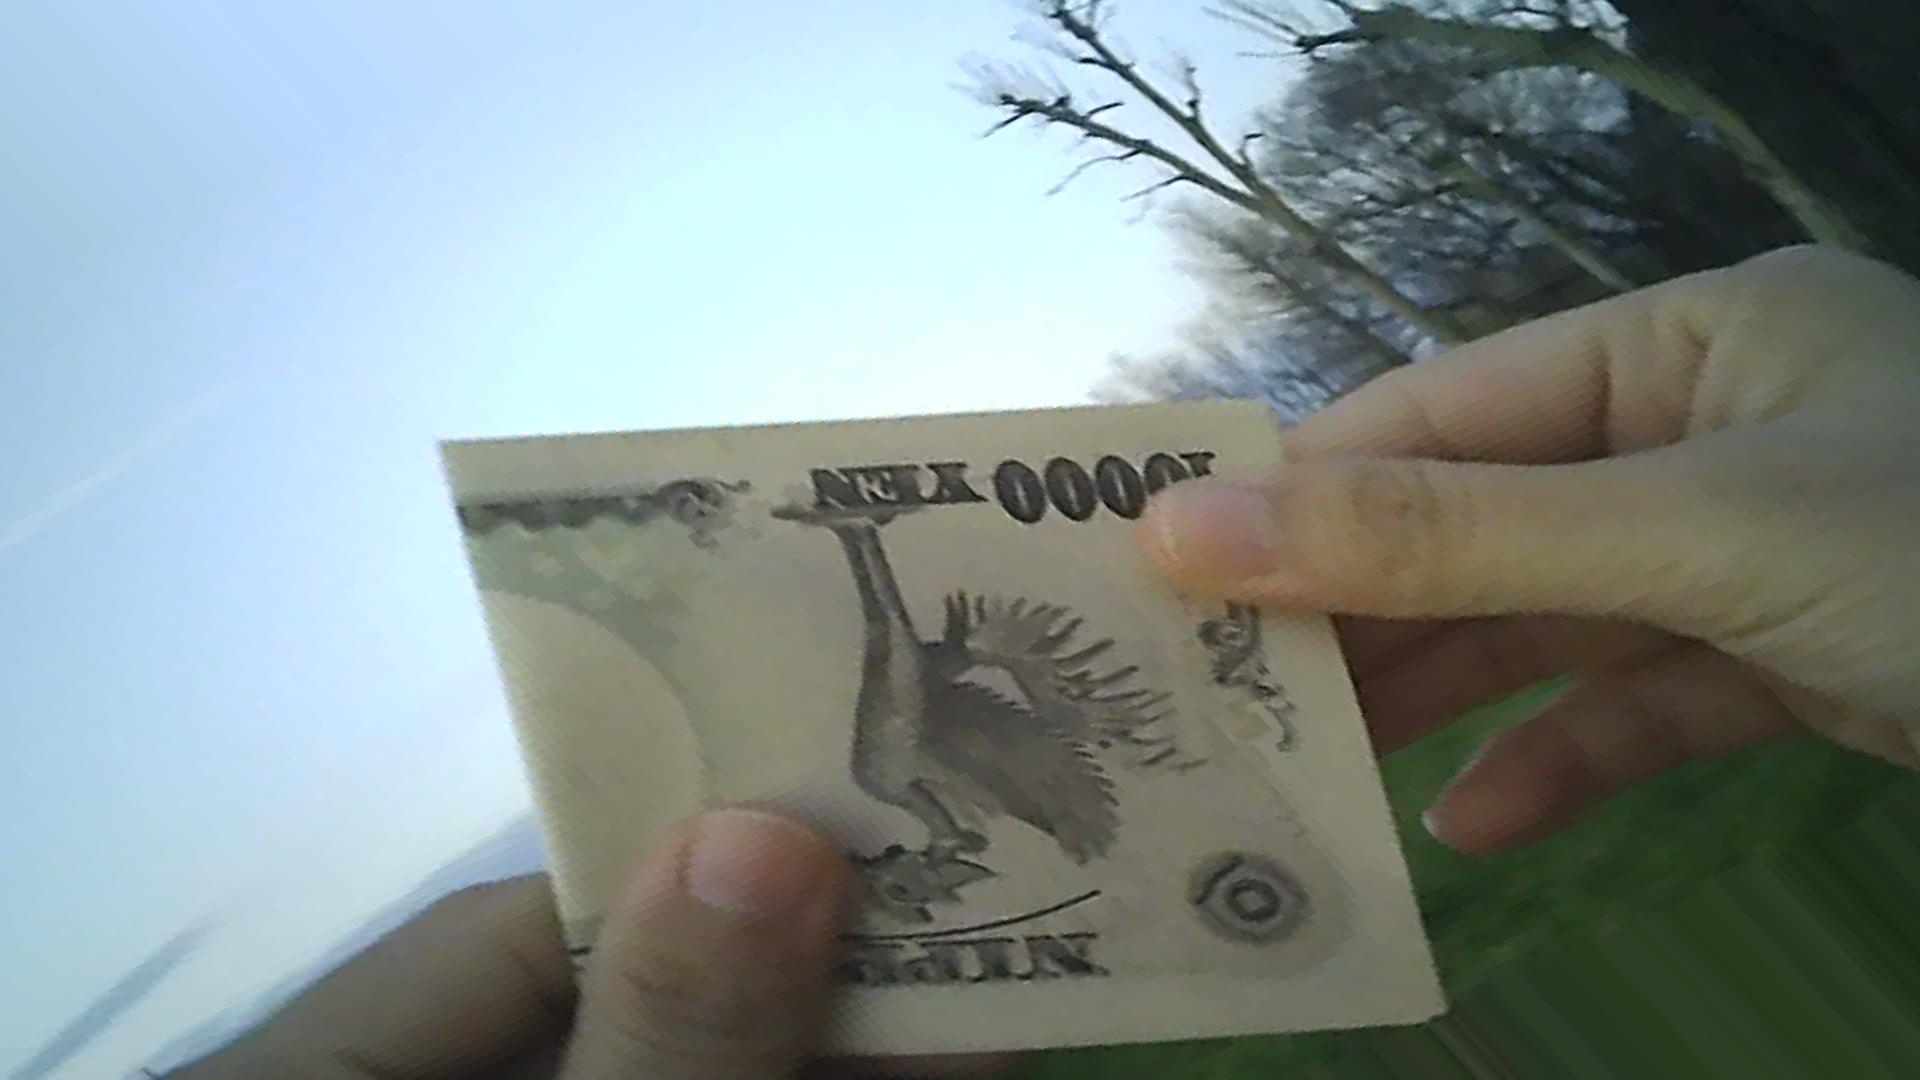10,000 Yen: (442, 388, 1432, 1036)
